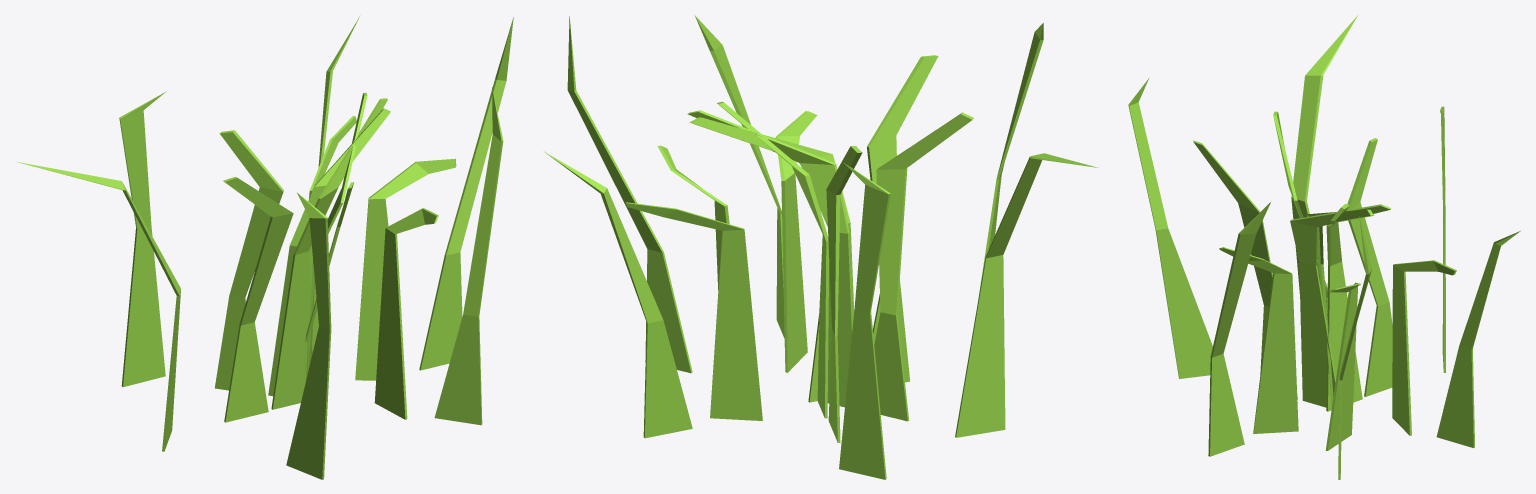
File: trawa.fbx
3 renders of one model, left to right at view 1: azimuth 30°, elevation 25°; view 2: azimuth 150°, elevation 25°; view 3: azimuth 270°, elevation 25°, orthographic. The views are drawn at different scales.
Visible parts, largest first — view 1: trawa; view 2: trawa; view 3: trawa.
Boxes of the visible parts, bbox=[...] form: trawa: bbox=[17, 16, 513, 479]; trawa: bbox=[543, 15, 1098, 479]; trawa: bbox=[1128, 15, 1520, 479].
Size of the model in its own units: 92.42 by 56.69 by 69.11.
